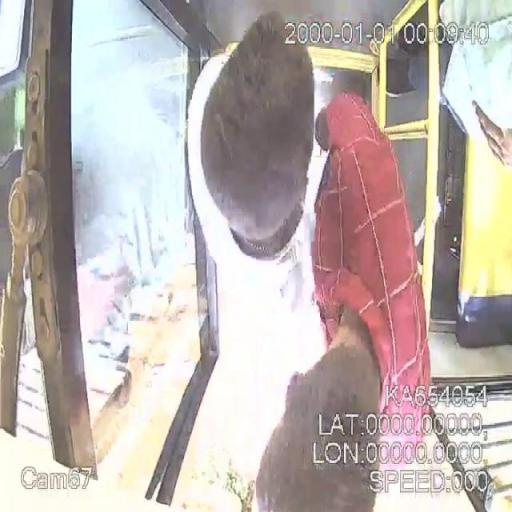persona: (309, 68, 433, 468), (185, 14, 318, 330)
